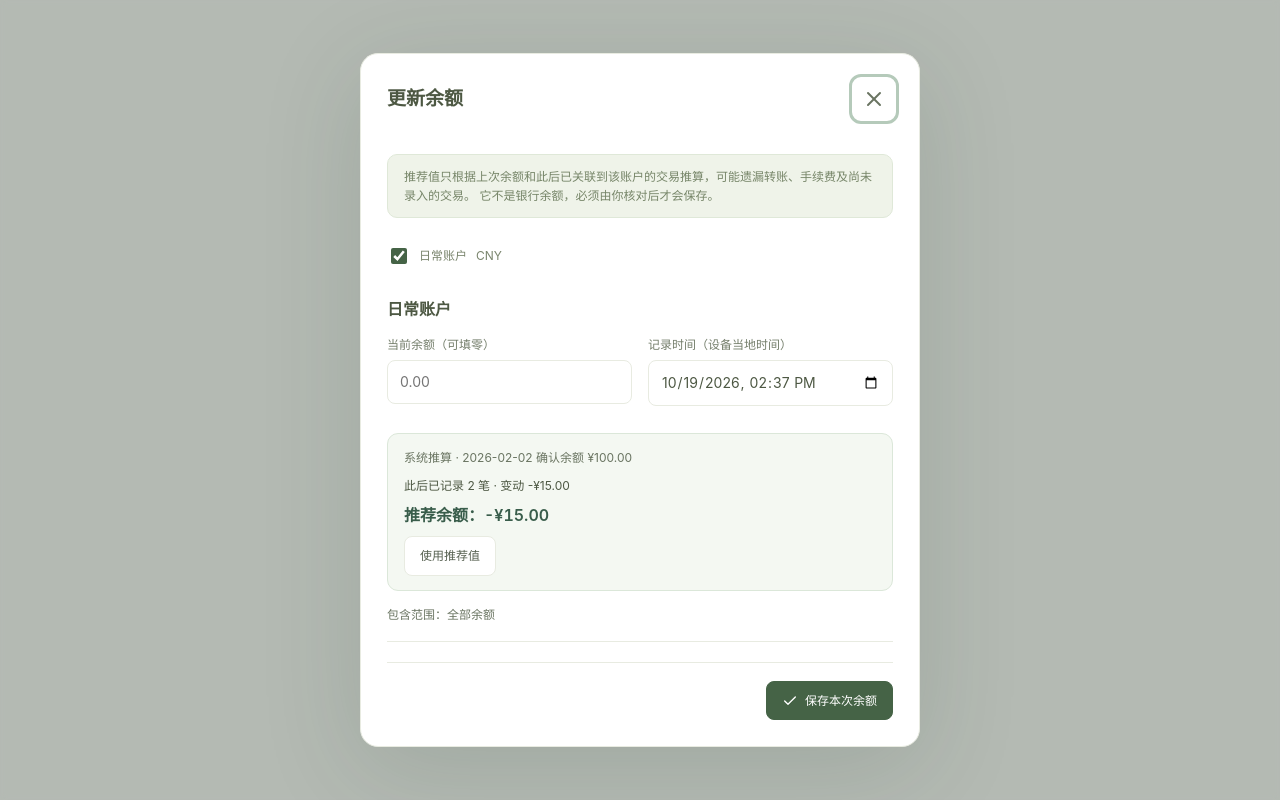
Test case: preserves savings CNY signed estimate -15.00 on explicit use
Check: the field labelled "当前余额（可填零）" is empty, box [387, 360, 632, 404]
Click the button "使用推荐值".
click(450, 556)  # box [404, 536, 496, 576]
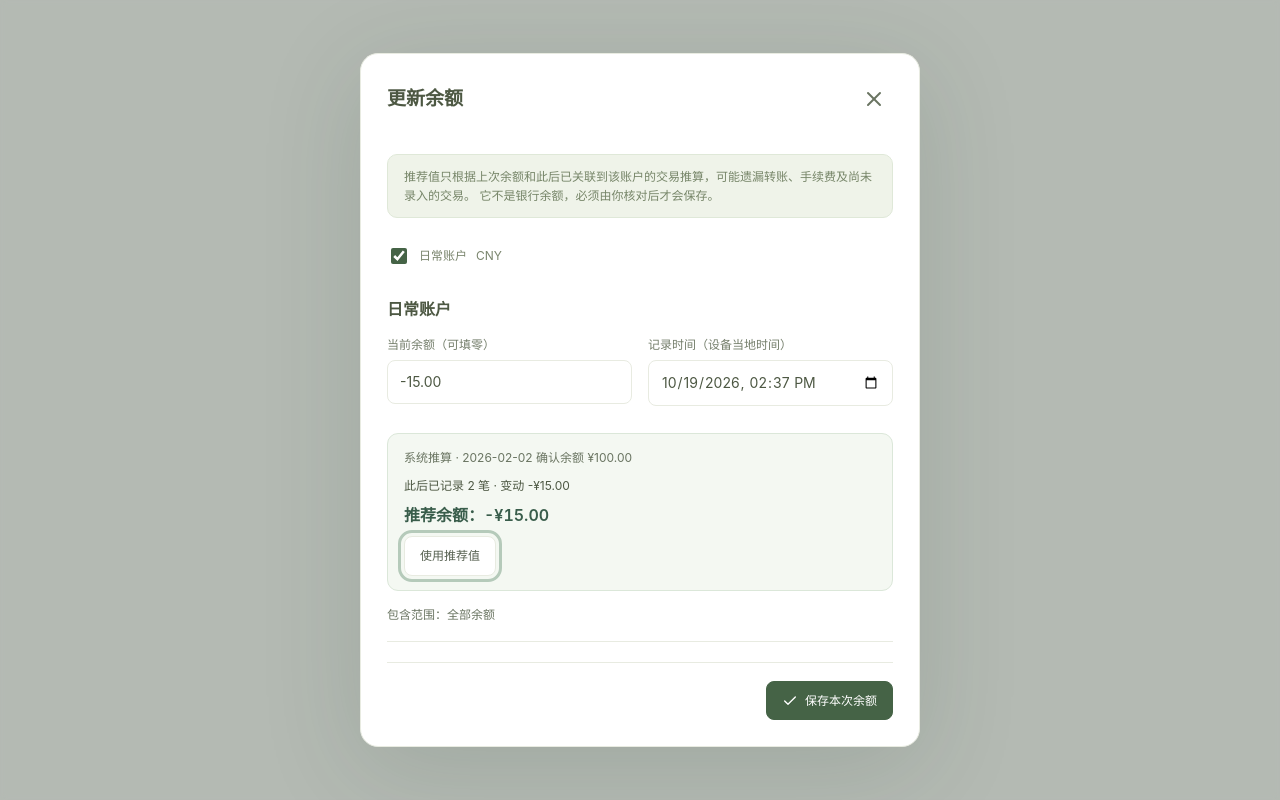
Check: the field labelled "当前余额（可填零）" holds "-15.00", box [387, 360, 632, 404]
